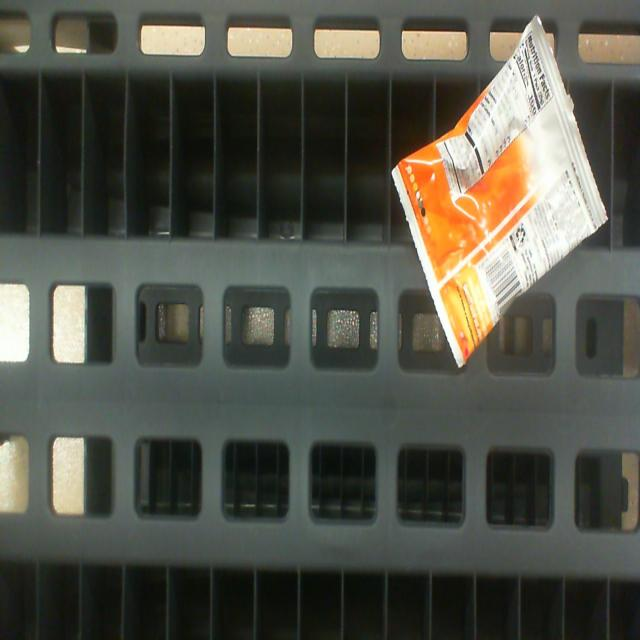snack: (395, 19, 608, 370)
